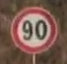limite 90: (9, 5, 59, 54)
